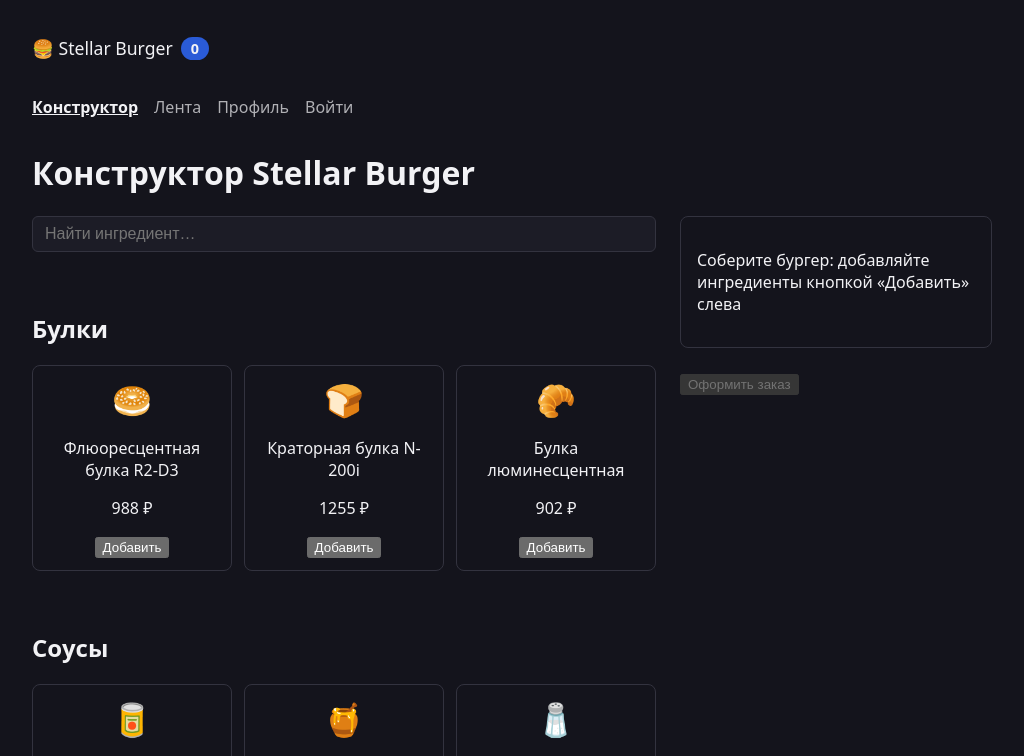
Test: App — конструктор и шапка › обновляет счётчик в шапке при добавлении и удалении ингредиентов
The width and height of the screenshot is (1024, 756).
Expected: the text "Флюоресцентная булка R2-D3" is shown, [64,437,200,481]
Expected: the text with test id "header-count" reads "0", [191,38,199,58]
Step 1. Click the button "Добавить" below "988" → (132,547), box [94,537,169,558]
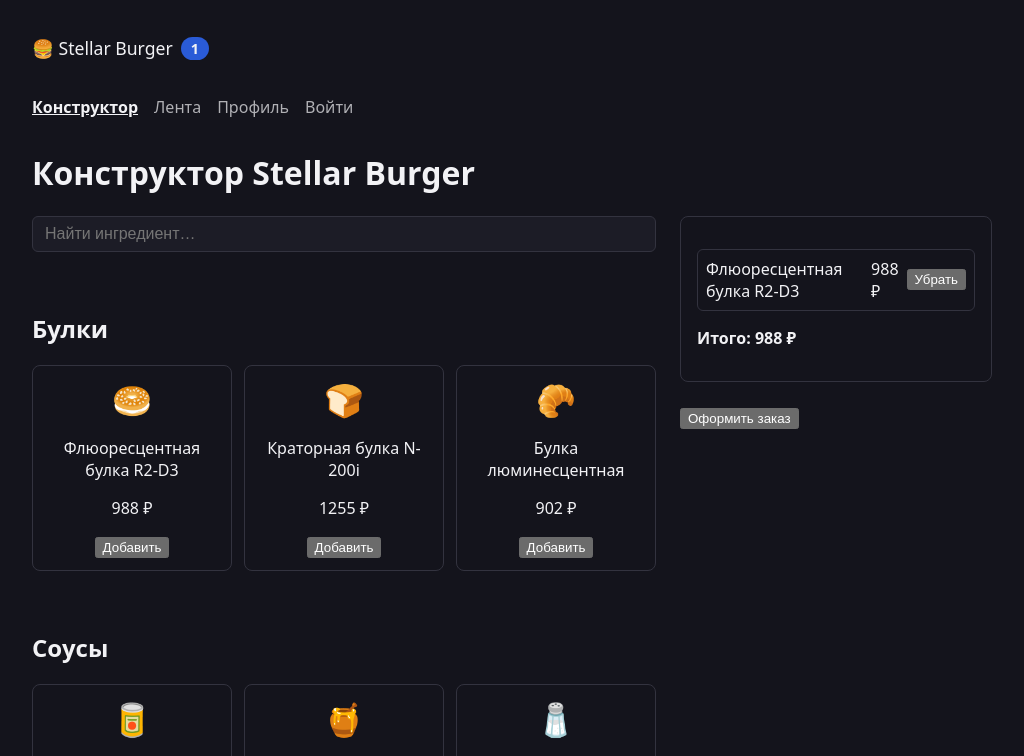
Expected: the text with test id "header-count" reads "1", [191,38,199,58]
Step 2. Click the button "Убрать" → (936,280), box [907,269,966,290]
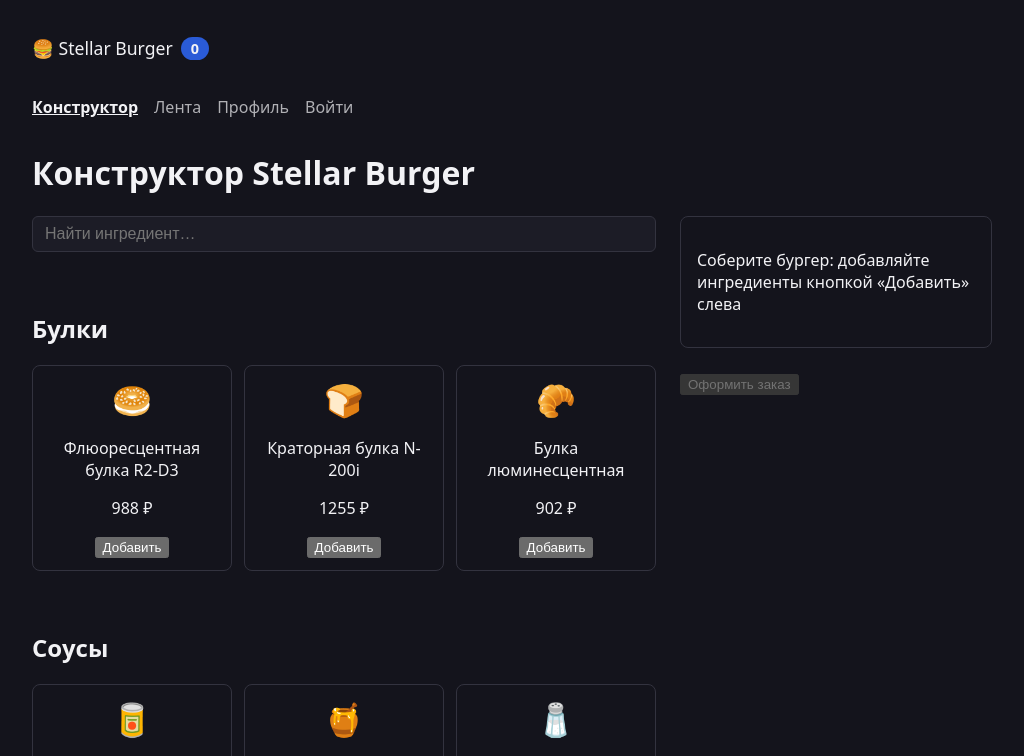
Expected: the text with test id "header-count" reads "0", [191,38,199,58]
